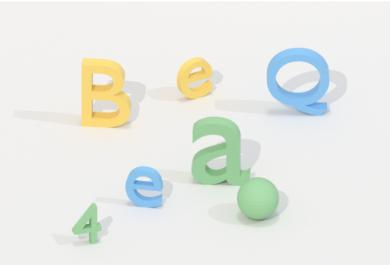0-Tron: (235, 176, 282, 222)
4: (68, 201, 105, 247)
B: (77, 54, 134, 131)
Q: (262, 44, 333, 119)
a: (189, 113, 253, 189)
e: (122, 163, 167, 212), (173, 54, 217, 102)
